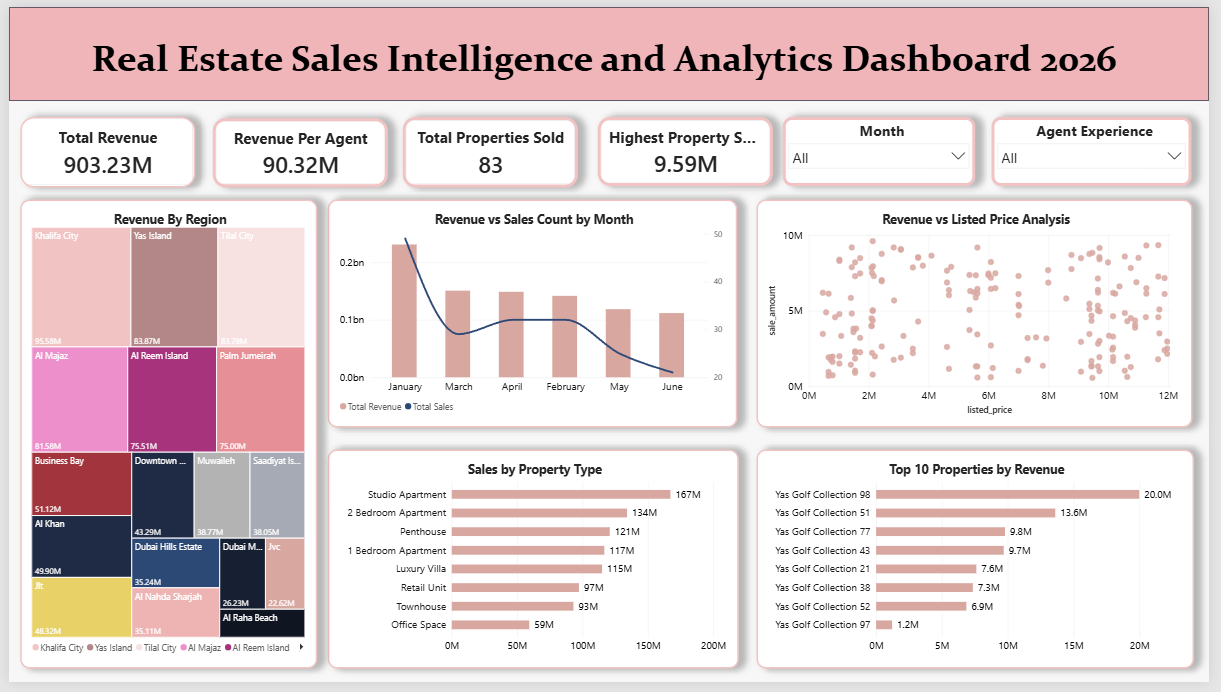

The page's visual inventory and layout, read from the dashboard file:
{"tool":"powerbi","page":{"name":"Page 2","canvas":[1920,1080],"ordinal":1},"visuals":[{"type":"cardVisual","fields":{"Data":["clean sales.Highest Property Sale"]},"box":[942.5,175,280,110],"z":0},{"type":"cardVisual","fields":{"Data":["clean sales.Total Properties Sold"]},"box":[630,175,280,112.5],"z":1000},{"type":"cardVisual","fields":{"Data":["clean sales.Revenue Per Agent"]},"box":[325,177.5,280,110],"z":2000},{"type":"cardVisual","fields":{"Data":["clean sales.Total Revenue"]},"box":[17.5,175,280,112.5],"z":3000},{"type":"clusteredBarChart","title":"Sales by Property Type","fields":{"Category":["clean properties.property_type"],"Y":["clean sales.Total Revenue"]},"box":[510,707.5,657.5,350],"z":4000},{"type":"clusteredBarChart","title":"Top 10 Properties by Revenue","fields":{"Y":["clean sales.Total Revenue"],"Category":["clean properties.property_name"]},"box":[1195,707.5,700,350],"z":5000},{"type":"scatterChart","title":"Revenue vs Listed Price  Analysis","fields":{"X":["clean sales.listed_price"],"Y":["clean sales.sale_amount"]},"box":[1195,307.5,697.5,365],"z":6000},{"type":"lineClusteredColumnComboChart","title":"Revenue vs Sales Count by Month","fields":{"Category":["clean sales.Month Name"],"Y":["clean sales.Total Revenue"],"Y2":["clean sales.Total Sales"]},"box":[510,307.5,655,365],"z":7000},{"type":"treemap","title":"Revenue By Region","fields":{"Group":["clean properties.region"],"Values":["clean sales.Total Revenue"]},"box":[17.5,307.5,475,750],"z":8000},{"type":"slicer","title":"Month","fields":{"Values":["clean sales.Month Name"]},"box":[1238,176,308,110],"z":9000},{"type":"slicer","title":"Agent Experience","fields":{"Values":["clean agents.experience_years"]},"box":[1572,176,320,110],"z":10000},{"type":"shape","box":[0,0,1920,150],"z":11000},{"type":"textbox","box":[132.5,45,1762.5,77.5],"z":12000}]}

Visuals, with their boxes in screenshot pixels (x1, y1, x2, y2), scaled from the page's 1920x1080 canvas onto the 1221x692 screenshot:
cardVisual - clean sales.Highest Property Sale: <region>599, 112, 777, 183</region>
cardVisual - clean sales.Total Properties Sold: <region>401, 112, 579, 184</region>
cardVisual - clean sales.Revenue Per Agent: <region>207, 114, 385, 184</region>
cardVisual - clean sales.Total Revenue: <region>11, 112, 189, 184</region>
"Sales by Property Type" clusteredBarChart: <region>324, 453, 742, 678</region>
"Top 10 Properties by Revenue" clusteredBarChart: <region>760, 453, 1205, 678</region>
"Revenue vs Listed Price  Analysis" scatterChart: <region>760, 197, 1204, 431</region>
"Revenue vs Sales Count by Month" lineClusteredColumnComboChart: <region>324, 197, 741, 431</region>
"Revenue By Region" treemap: <region>11, 197, 313, 678</region>
"Month" slicer: <region>787, 113, 983, 183</region>
"Agent Experience" slicer: <region>1000, 113, 1203, 183</region>
shape: <region>0, 0, 1220, 96</region>
textbox: <region>84, 29, 1205, 78</region>
